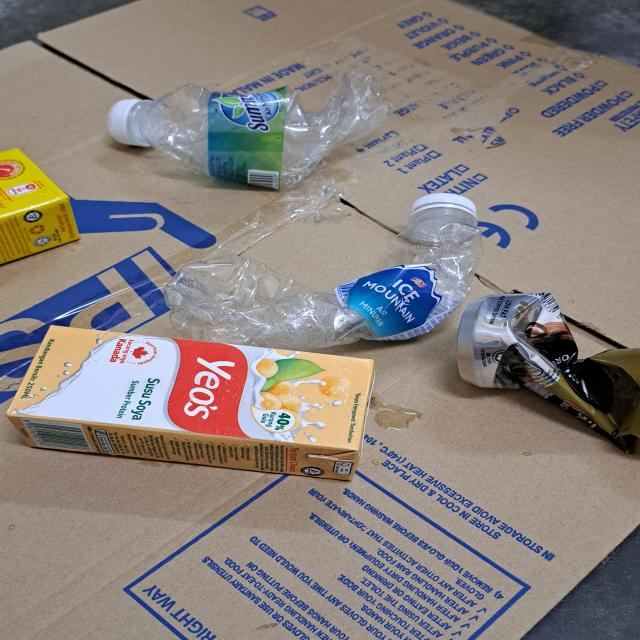can: (456, 291, 640, 456)
cardboard: (0, 0, 640, 640)
drink carton: (10, 324, 373, 481), (0, 144, 80, 274)
plastic bottle: (165, 196, 479, 344), (110, 76, 395, 192)
plastic bottle cap: (110, 96, 162, 151), (410, 196, 480, 224)
